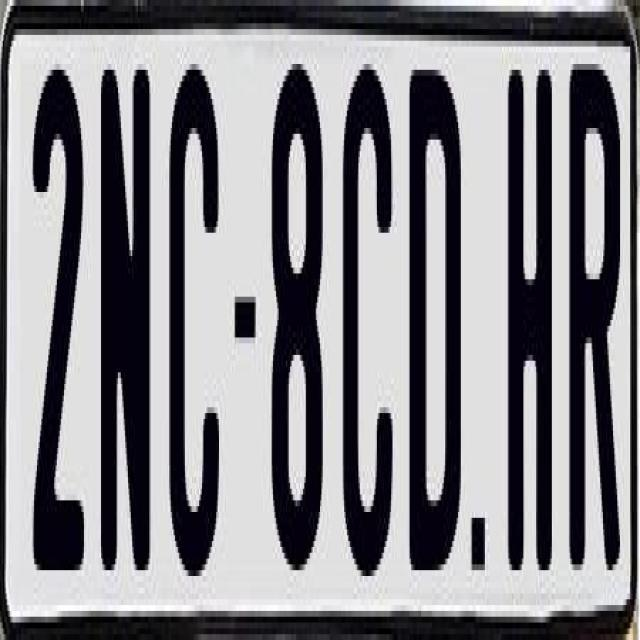2: (30, 64, 87, 594)
8: (267, 58, 327, 576)
C: (342, 64, 396, 594), (165, 58, 215, 582)
D: (408, 52, 462, 564)
H: (503, 52, 549, 582)
N: (96, 64, 154, 576)
